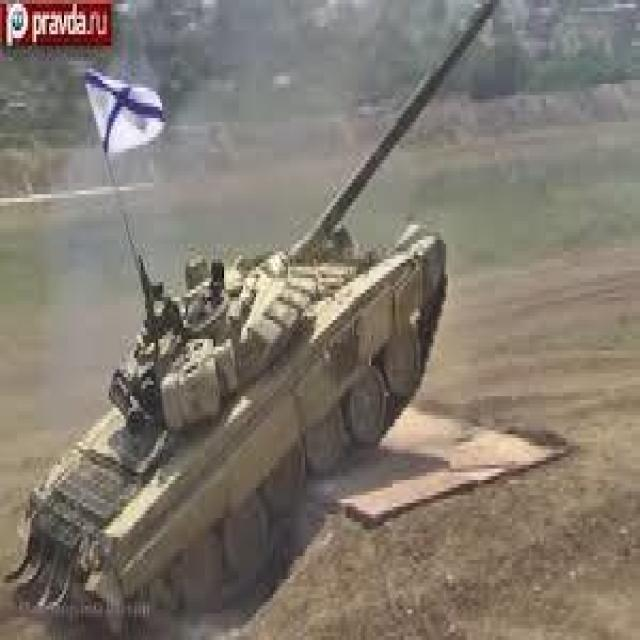Tanks: (16, 217, 449, 621)
